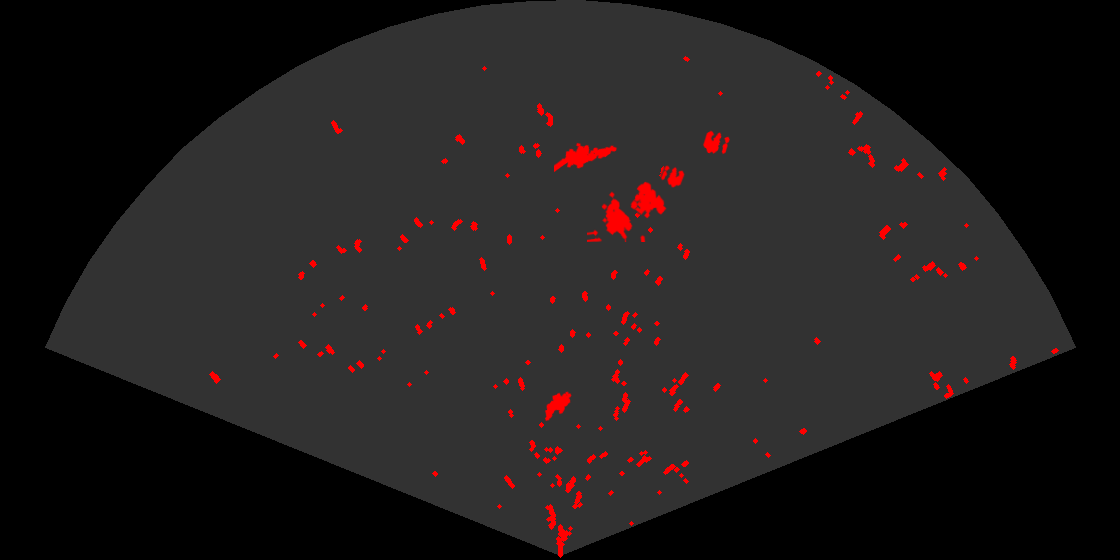AUV: (543, 390, 573, 423)
ball: (701, 129, 731, 156), (659, 164, 686, 189)
cage: (587, 180, 668, 242)
frogman: (554, 141, 619, 174)
